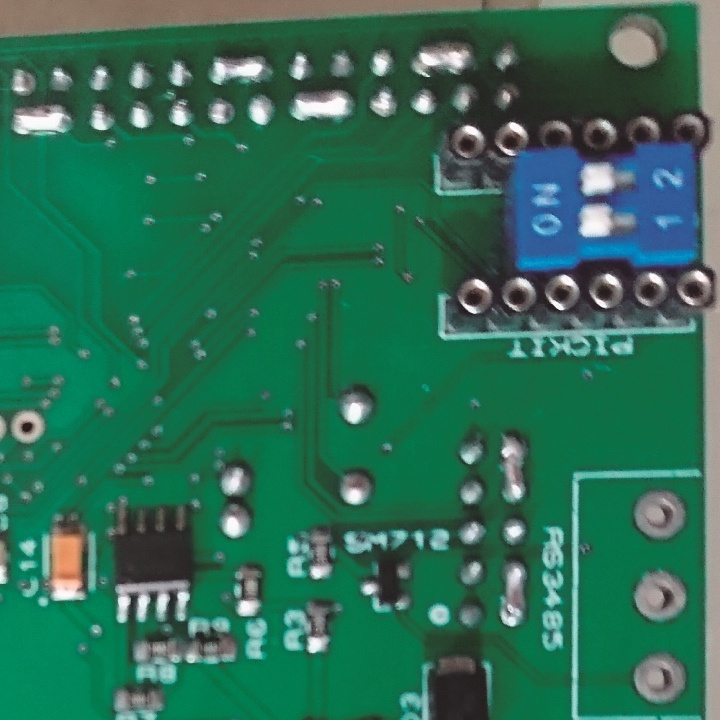F: (630, 566, 692, 626), (627, 648, 691, 705), (628, 489, 693, 542), (10, 409, 45, 448), (367, 87, 401, 121), (205, 95, 236, 129), (7, 66, 39, 95)
P: (289, 89, 355, 125), (412, 38, 471, 77), (12, 103, 73, 138), (205, 53, 271, 83), (500, 432, 527, 504), (501, 556, 526, 630)
